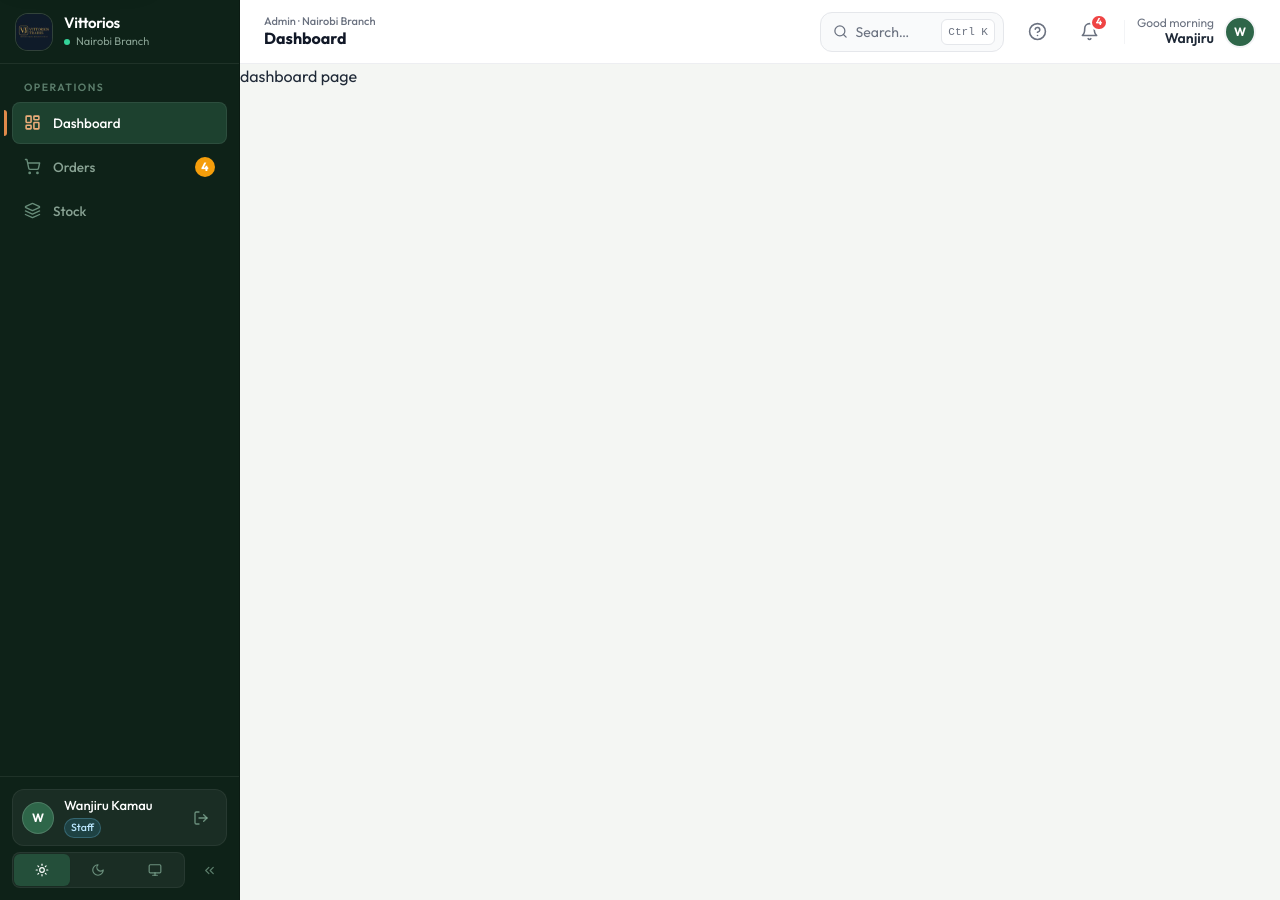
Test: AdminLayout — search palette › turns a reference into an order search, with the text safely encoded
Step 1. Click the button with aria-label "Search pages and orders" → [912, 32], box [820,12,1004,52]
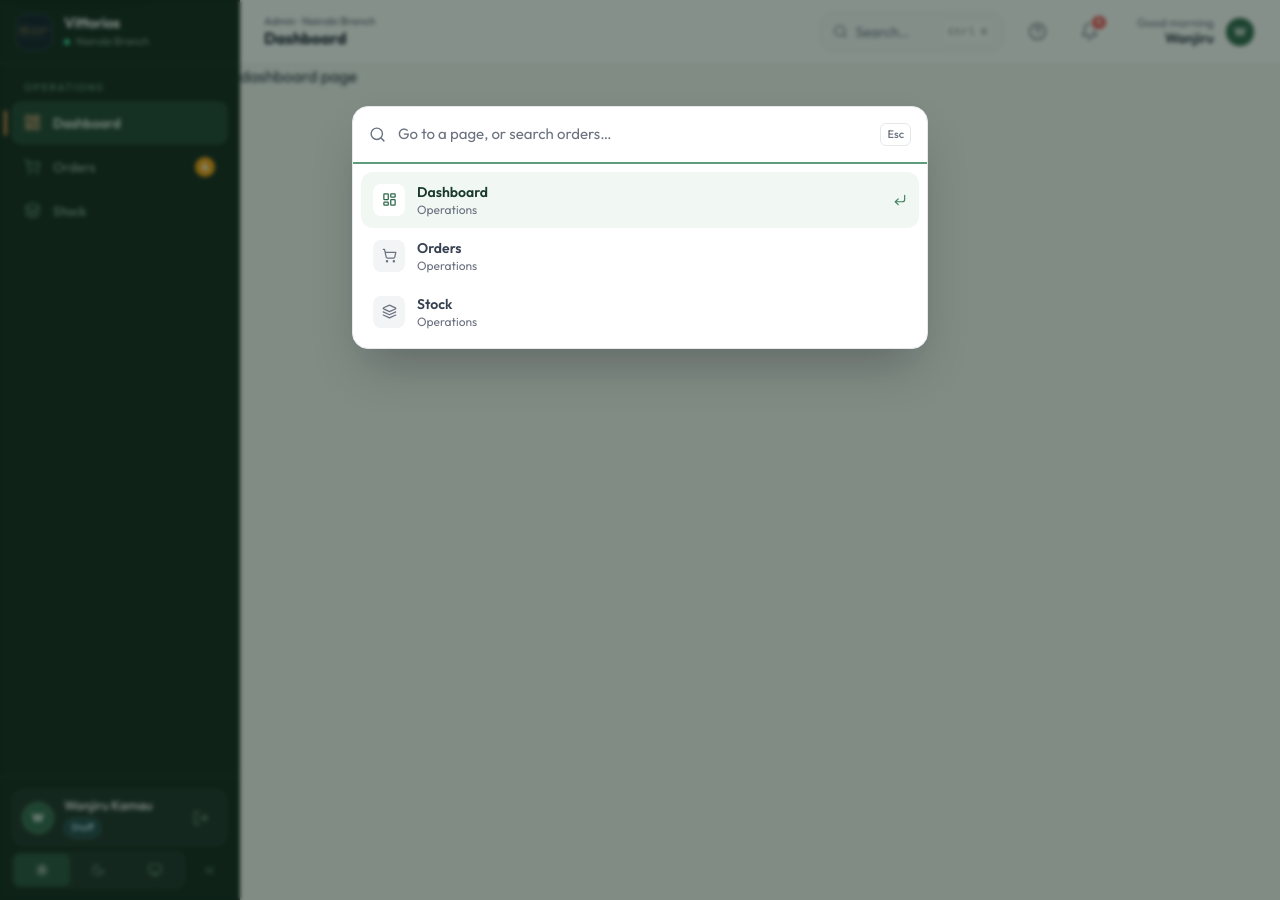
Step 2. Type keys "NAI-2026-0140 & co{ArrowDown}"
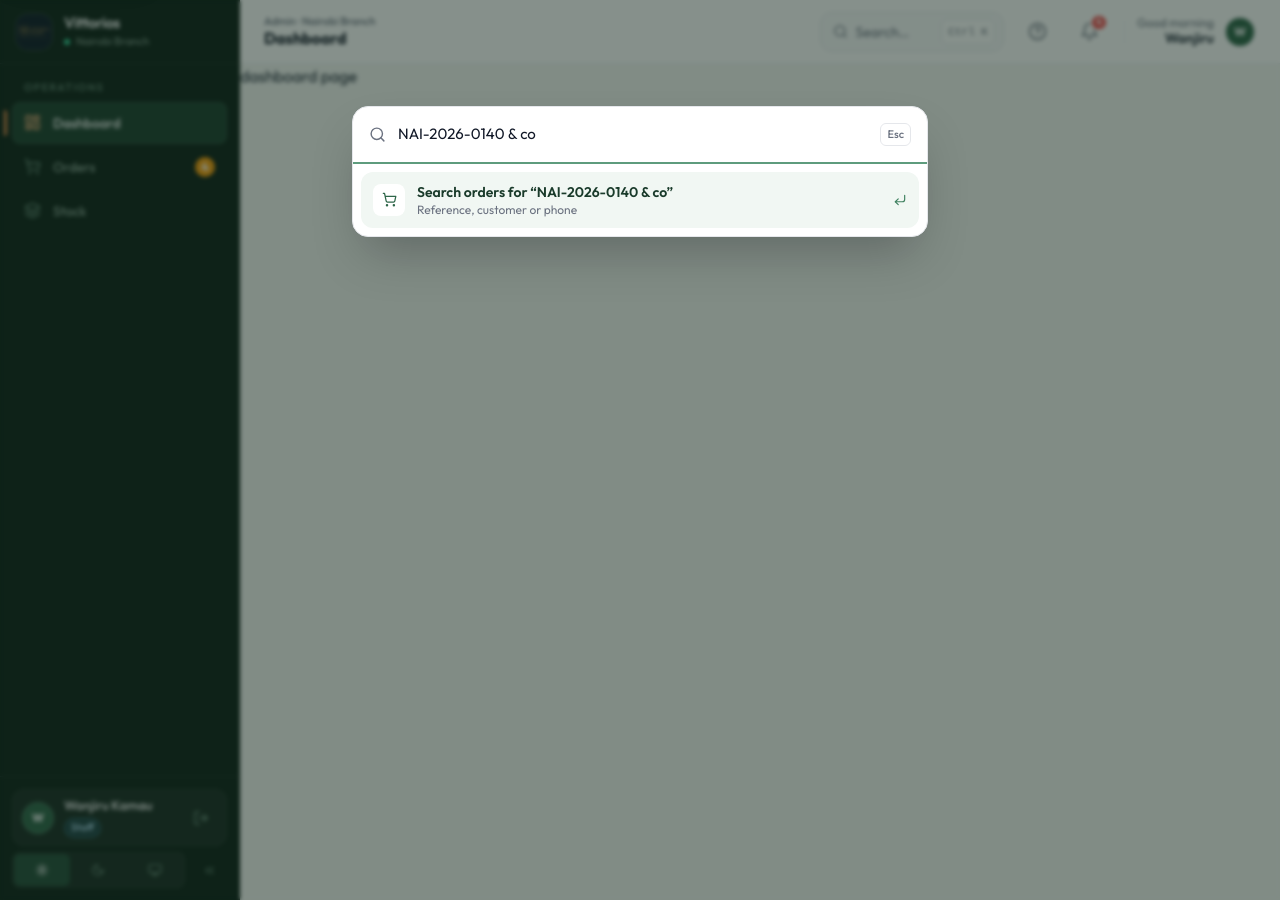
Now the number of options is 1, box [361,172,919,228]
Now the option shows "Search orders for “NAI-2026-0140 & co”", box [361,172,919,228]
